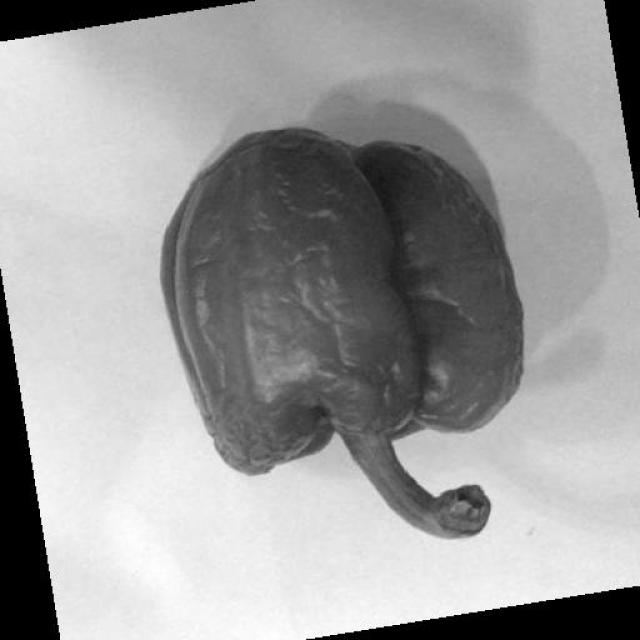Stale_Capsicum: (156, 117, 544, 528)
